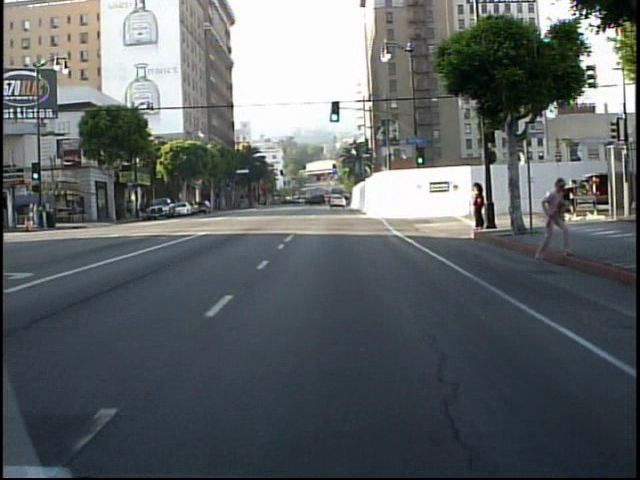person: (535, 173, 570, 267), (471, 180, 487, 233)
